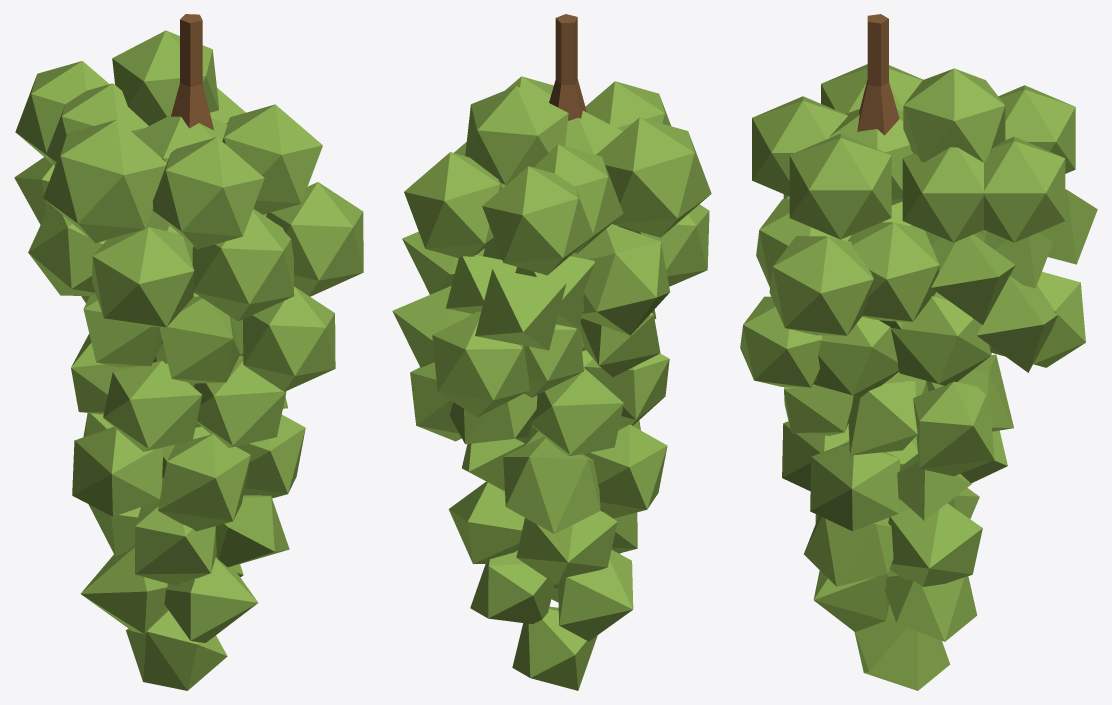
Rendered from Grape_01.fbx.
3 renders of one model, left to right at view 1: azimuth 30°, elevation 25°; view 2: azimuth 150°, elevation 25°; view 3: azimuth 270°, elevation 25°, orthographic. The views are drawn at different scales.
Visible parts, largest first — view 1: Grape_01; view 2: Grape_01; view 3: Grape_01.
Boxes of the visible parts, bbox=[...] form: Grape_01: bbox=[14, 14, 363, 690]; Grape_01: bbox=[392, 14, 711, 690]; Grape_01: bbox=[740, 14, 1097, 690].
Size of the model in its own units: 10.54 by 24.58 by 12.
